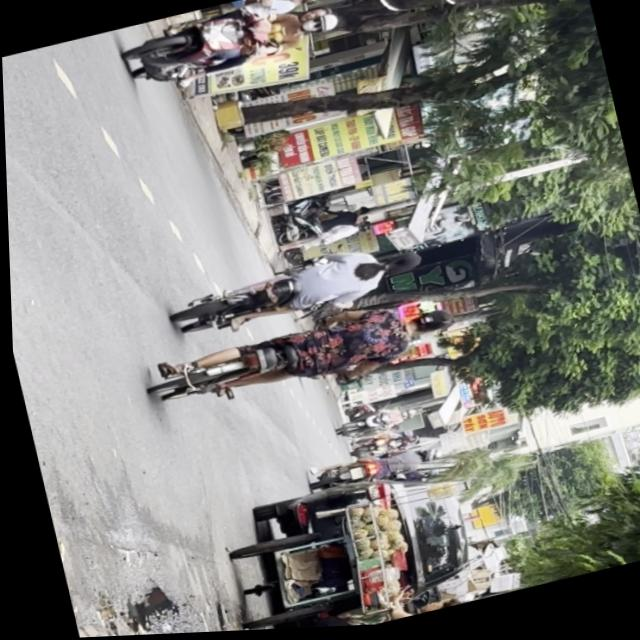helmet: (299, 10, 340, 38)
licenseplate: (161, 232, 429, 349), (115, 0, 347, 97)
motorcyclist: (375, 251, 423, 280)
